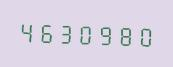eight: (112, 20, 130, 48)
four: (17, 17, 35, 45)
nine: (93, 20, 111, 47)
six: (36, 18, 54, 45)
three: (55, 18, 73, 46)
zero: (74, 19, 92, 47), (131, 21, 149, 49)
